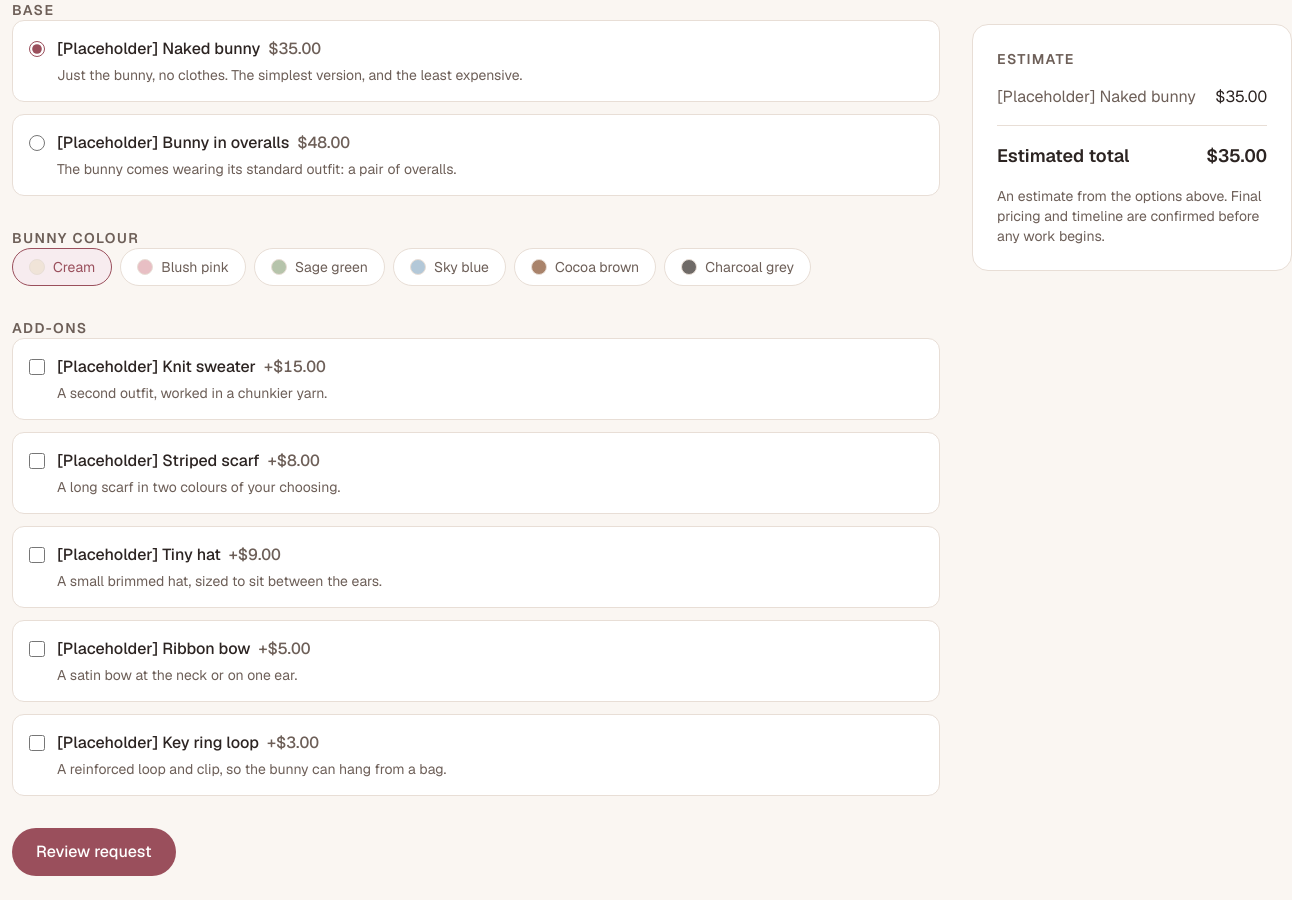
BunnyBuilder › [BUNNY-10] submitting shows the request and keeps the configuration
Click the 2nd radio button.
click(37, 143)  # box [29,135,45,151]
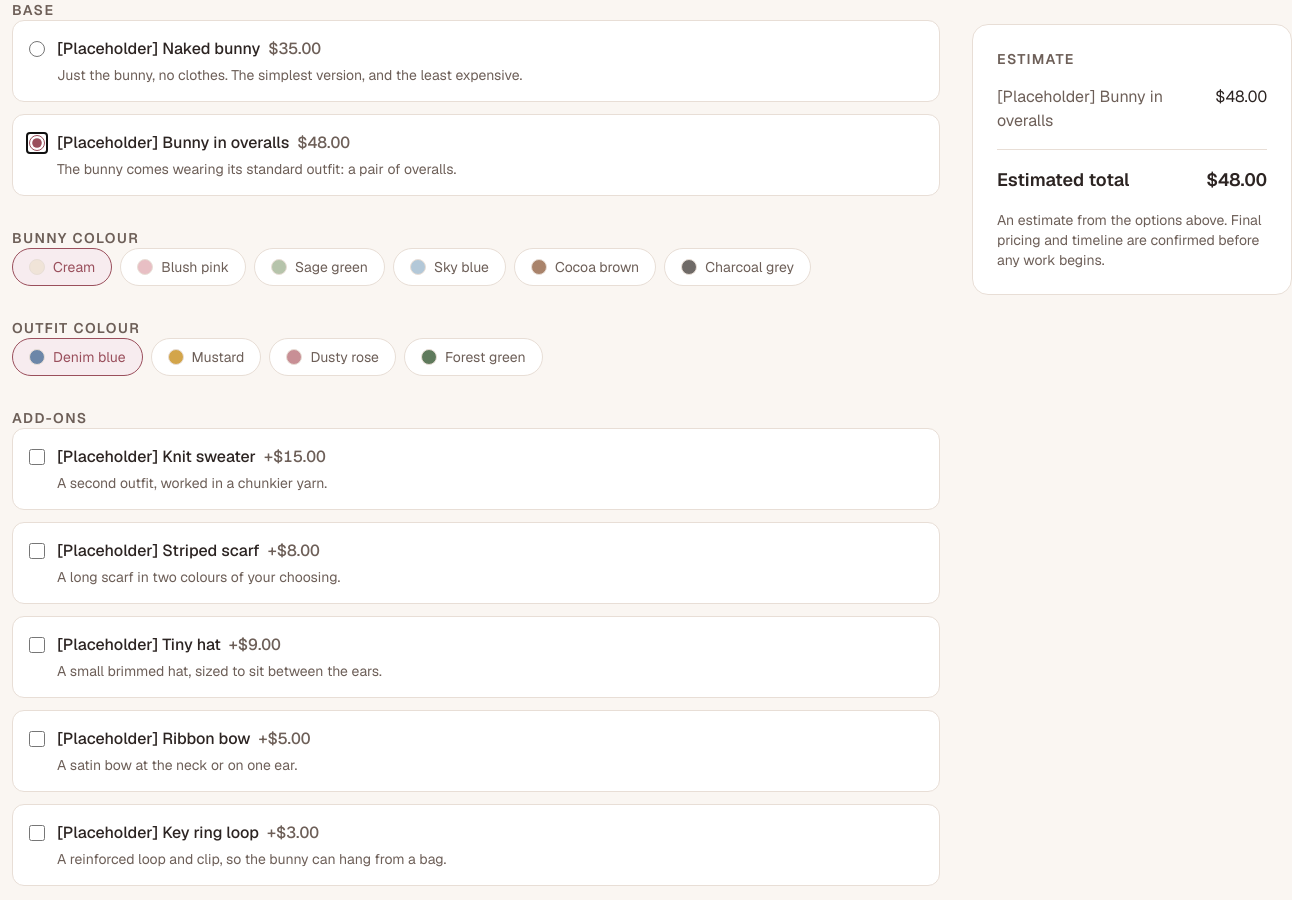
Click the radio button labelled "Sky blue".
click(449, 267)  # box [393,248,506,286]
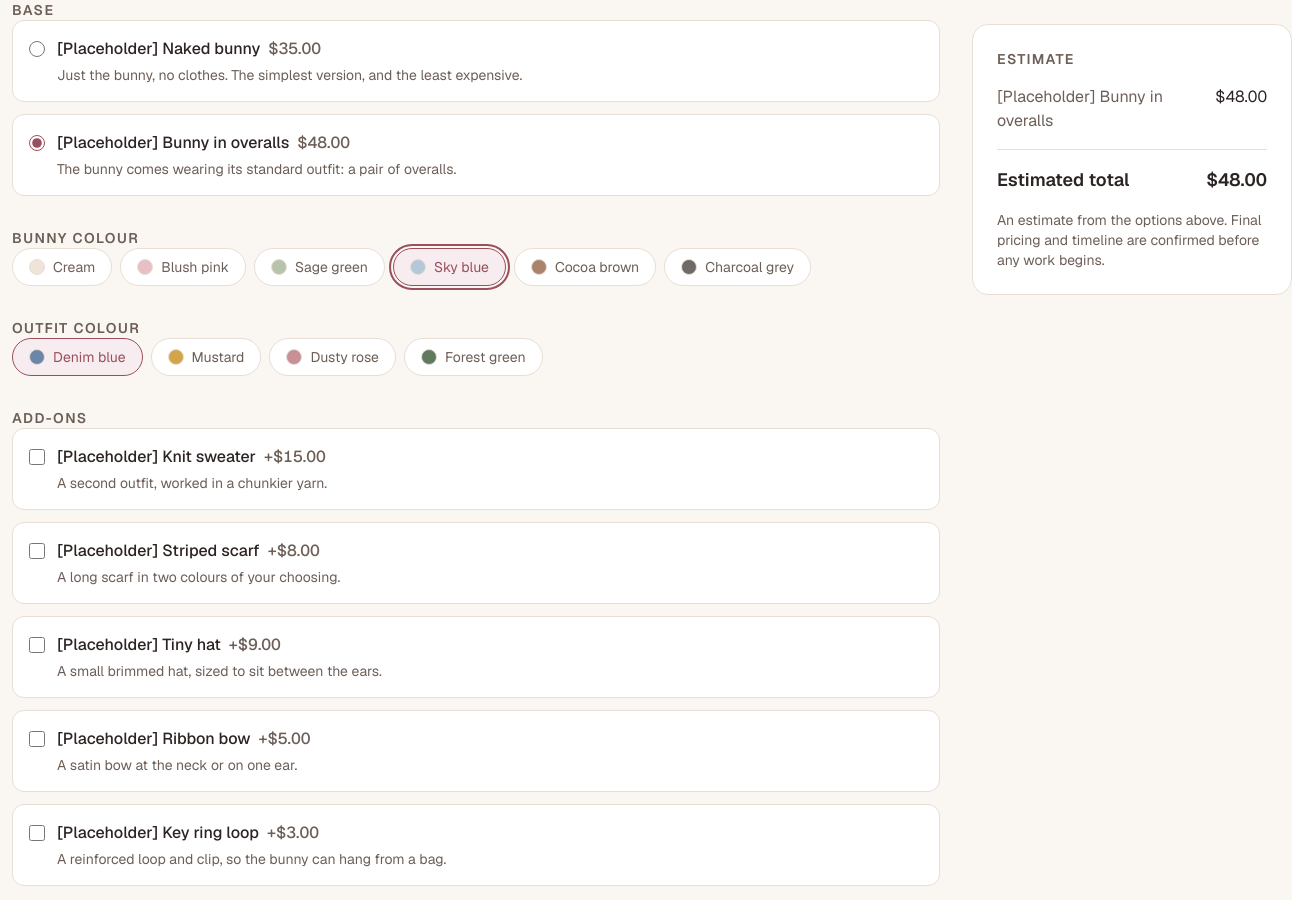
Click the 2nd checkbox.
click(37, 551)  # box [29,543,45,559]
(page scrolled)
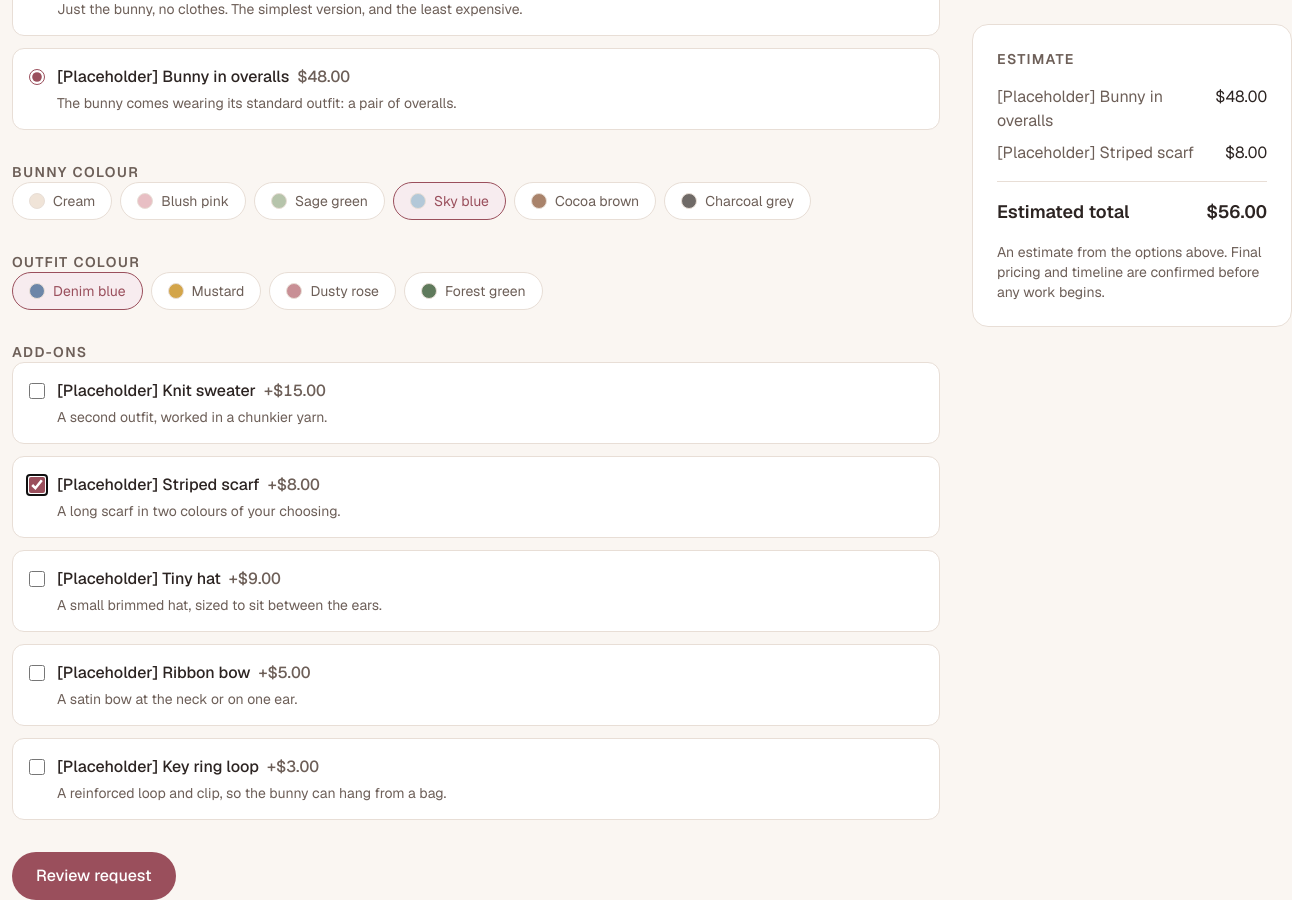
Click the button "Review request".
click(94, 876)  # box [12,852,176,899]
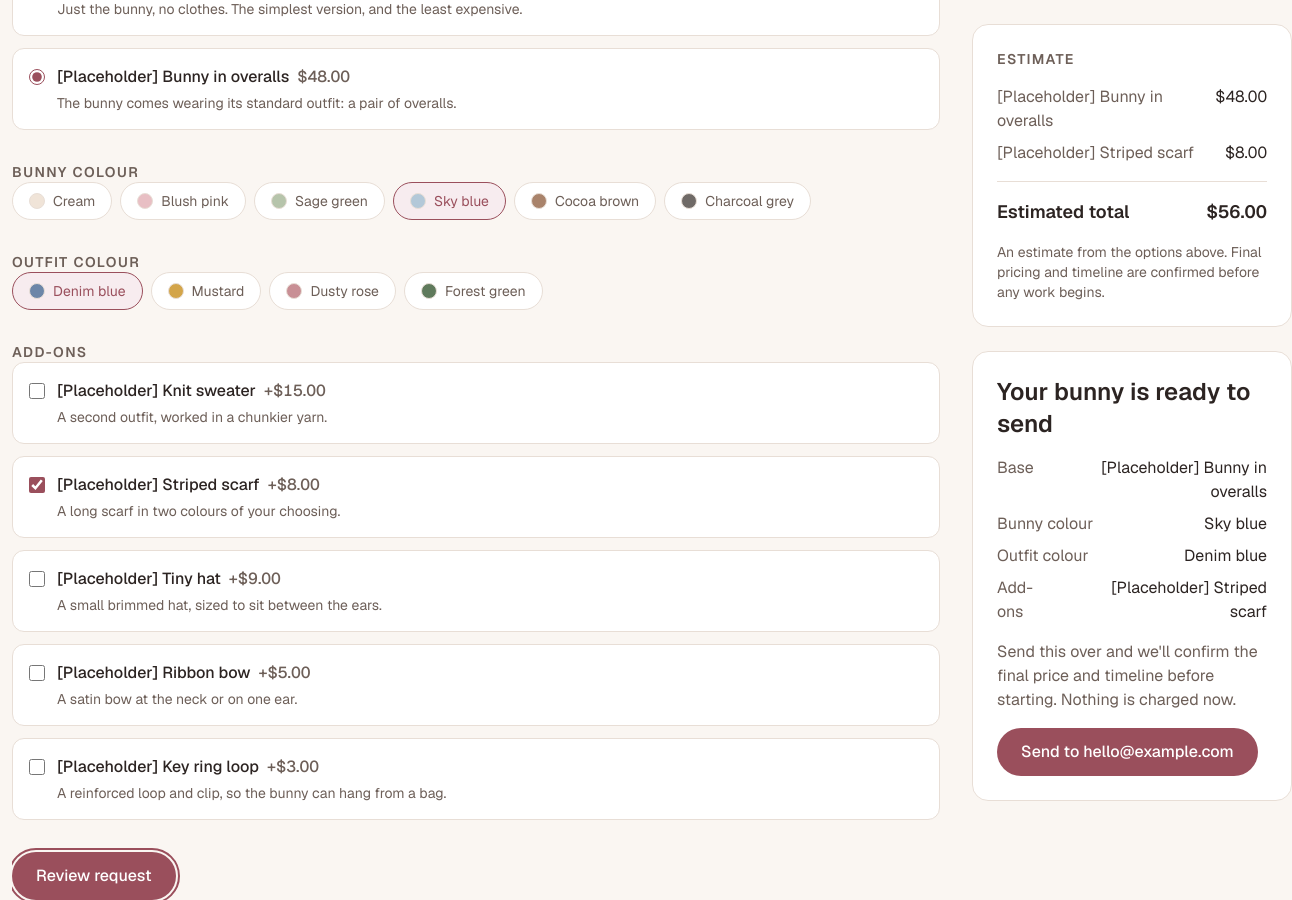
Expected: the text "[Placeholder] Bunny in overalls" below "Your bunny is ready to send" is shown, [1101,457,1267,502]
Expected: the text "Sky blue" is shown, [1204,512,1267,536]
Expected: the text "[Placeholder] Striped scarf" below "Your bunny is ready to send" is shown, [1111,577,1267,622]
